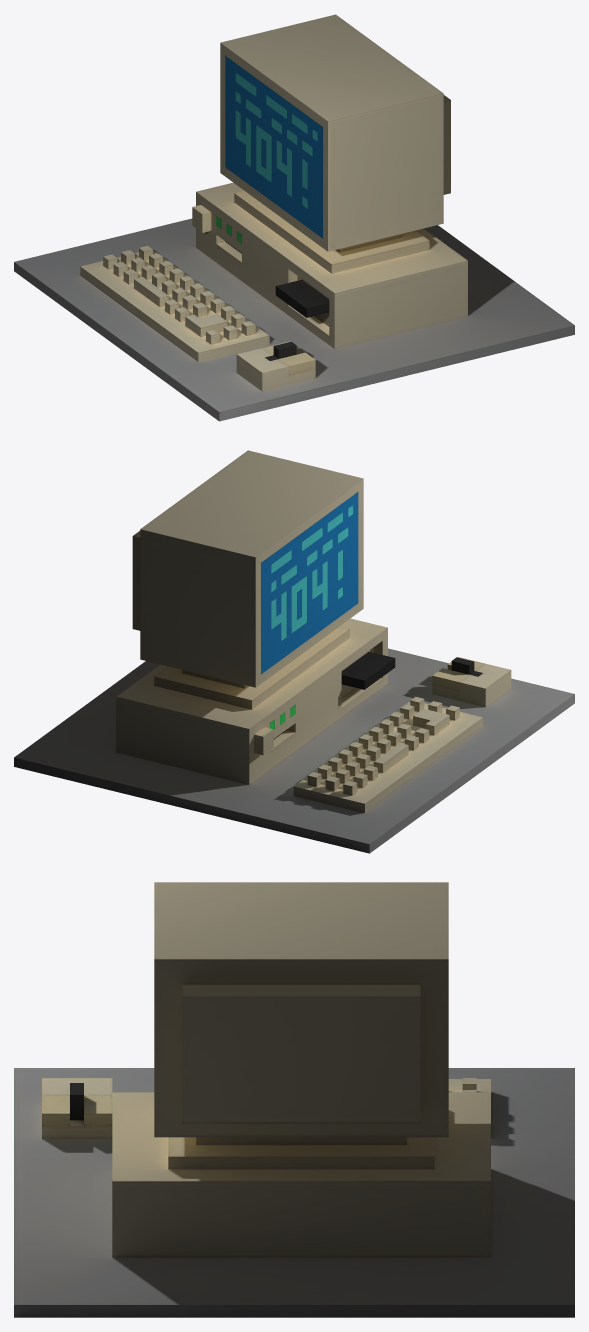
Rendered from computer2.glb.
3 renders of one model, top to bottom at view 1: azimuth 30°, elevation 25°; view 2: azimuth 150°, elevation 25°; view 3: azimuth 270°, elevation 25°, orthographic. The views are drawn at different scales.
Visible parts, largest first — view 1: untitled; view 2: untitled; view 3: untitled.
Part boxes in pixels (left/top/right/bottom): untitled: left=14, top=14, right=574, bottom=421; untitled: left=14, top=450, right=574, bottom=853; untitled: left=14, top=882, right=574, bottom=1317.
Bounding box in the file's own units: 4 × 2.4 × 4.
2 materials, 2 textured.
